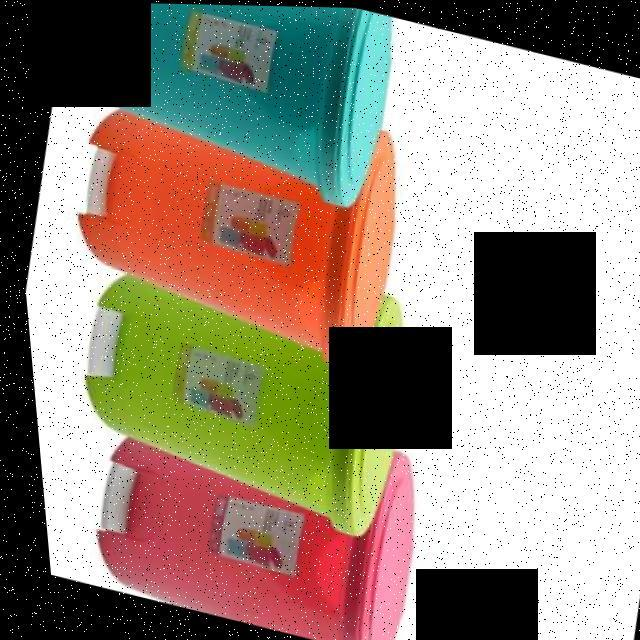bin: (26, 212, 426, 551), (18, 89, 423, 383), (36, 1, 413, 209), (64, 425, 421, 640)
